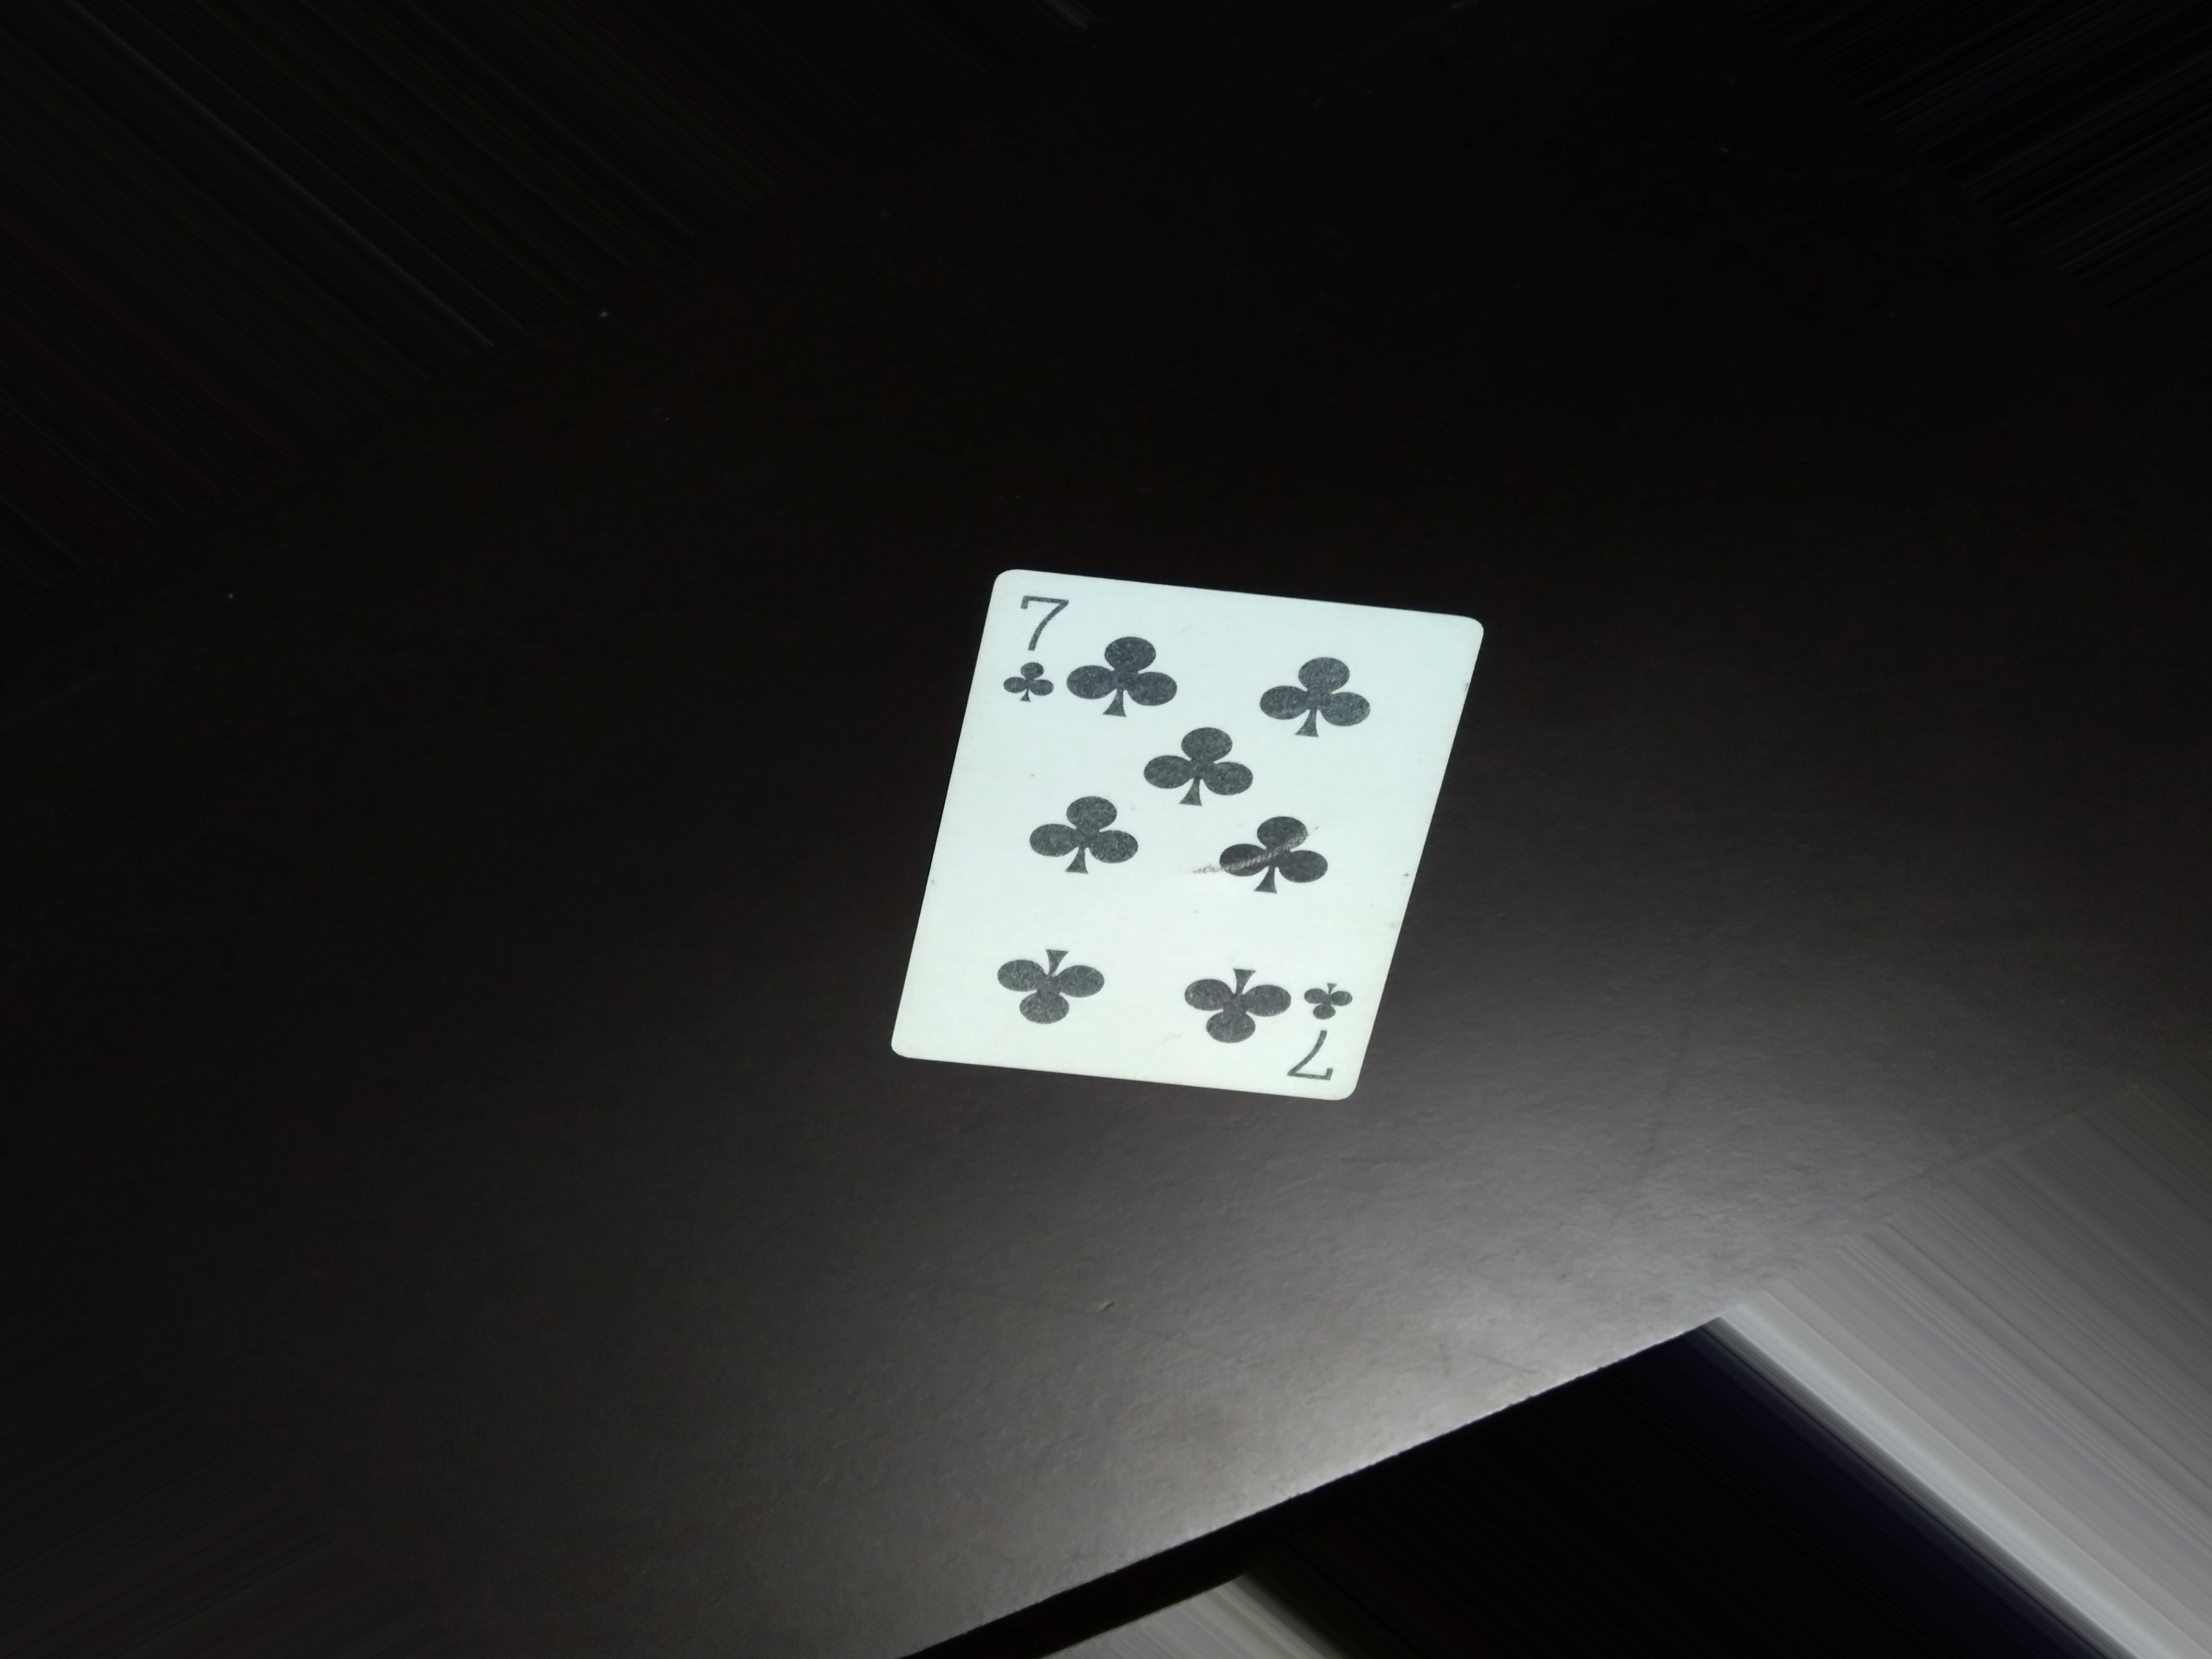7C: (1005, 573, 1076, 704)
